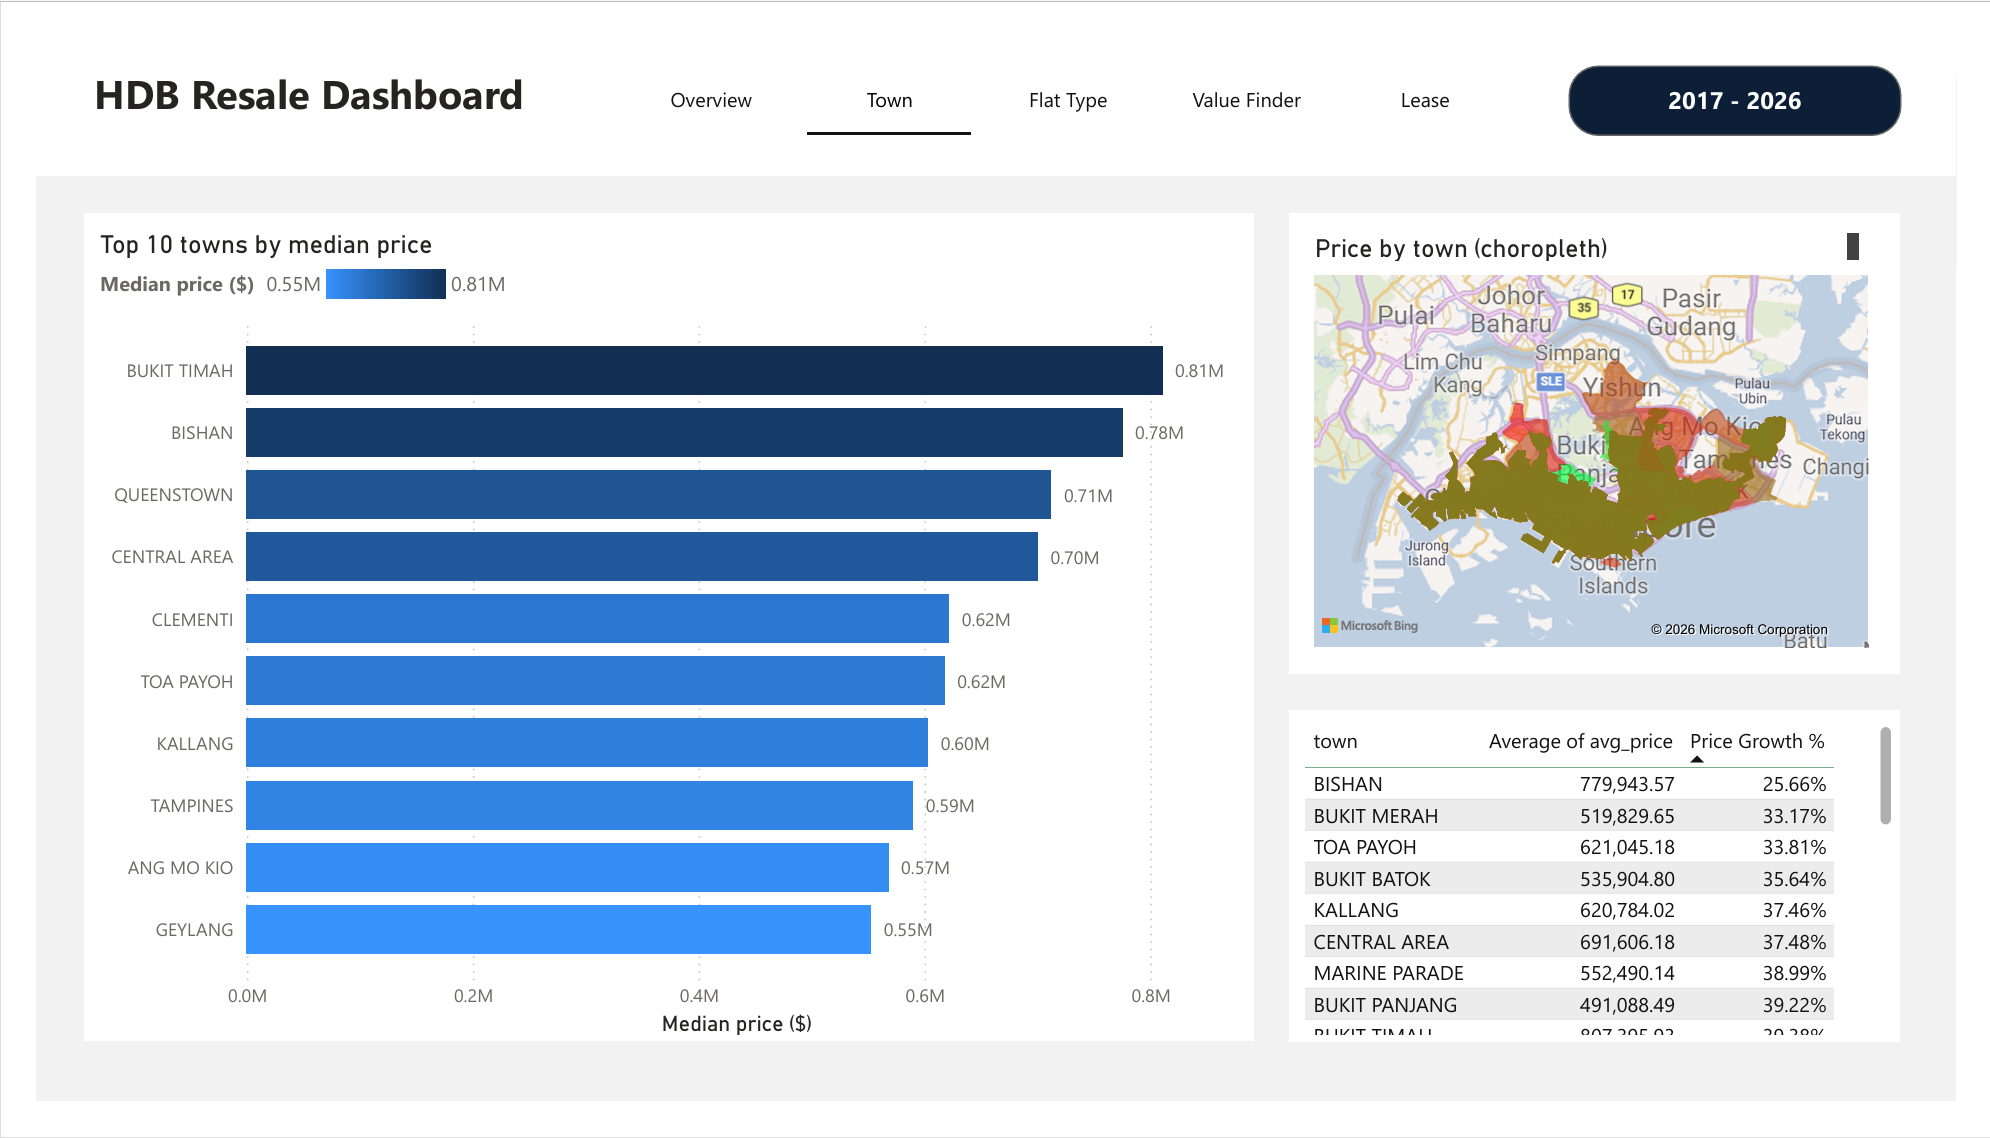

The dashboard page shown, as its layout file describes it:
{"tool":"powerbi","page":{"name":"Town","canvas":[1280,720],"ordinal":1},"visuals":[{"type":"shape","box":[0,0,1279.7,103],"z":0},{"type":"textbox","box":[33.3,29.4,361.8,45.1],"z":1000},{"type":"textbox","box":[1020.8,29.4,222.6,47.1],"z":2000},{"type":"clusteredBarChart","title":"Top 10 towns by median price","fields":{"Category":["public vw_town_summary.town"],"Y":["Avg(public vw_town_summary.median_price)"]},"box":[33.3,156.9,779.6,509.9],"z":3000},{"type":"shape","title":"dn","box":[836.4,156.9,406.9,279.5],"z":4000},{"type":"textbox","box":[848.2,164.7,372.6,28.4],"z":5000},{"type":"filledMap","fields":{"Category":["public vw_full_detail.town"]},"box":[848.2,193.2,373.6,234.4],"z":6000},{"type":"tableEx","fields":{"Values":["public vw_town_summary.town","Sum(public vw_town_summary.avg_price)"]},"box":[836.4,445.2,406.9,221.6],"z":7000},{"type":"pageNavigator","box":[395.2,26.5,584.4,50],"z":8000}]}

Visuals, with their boxes in screenshot pixels (x1, y1, x2, y2), scaled from the page's 1280x720 canvas onto the 1990x1138 screenshot:
shape: select_region(0, 0, 1989, 163)
textbox: select_region(52, 46, 614, 118)
textbox: select_region(1587, 46, 1933, 121)
"Top 10 towns by median price" clusteredBarChart: select_region(52, 248, 1264, 1054)
"dn" shape: select_region(1300, 248, 1933, 690)
textbox: select_region(1319, 260, 1898, 305)
filledMap - public vw_full_detail.town: select_region(1319, 305, 1900, 676)
tableEx - public vw_town_summary.town x Sum(public vw_town_summary.avg_price): select_region(1300, 704, 1933, 1054)
pageNavigator: select_region(614, 42, 1523, 121)
